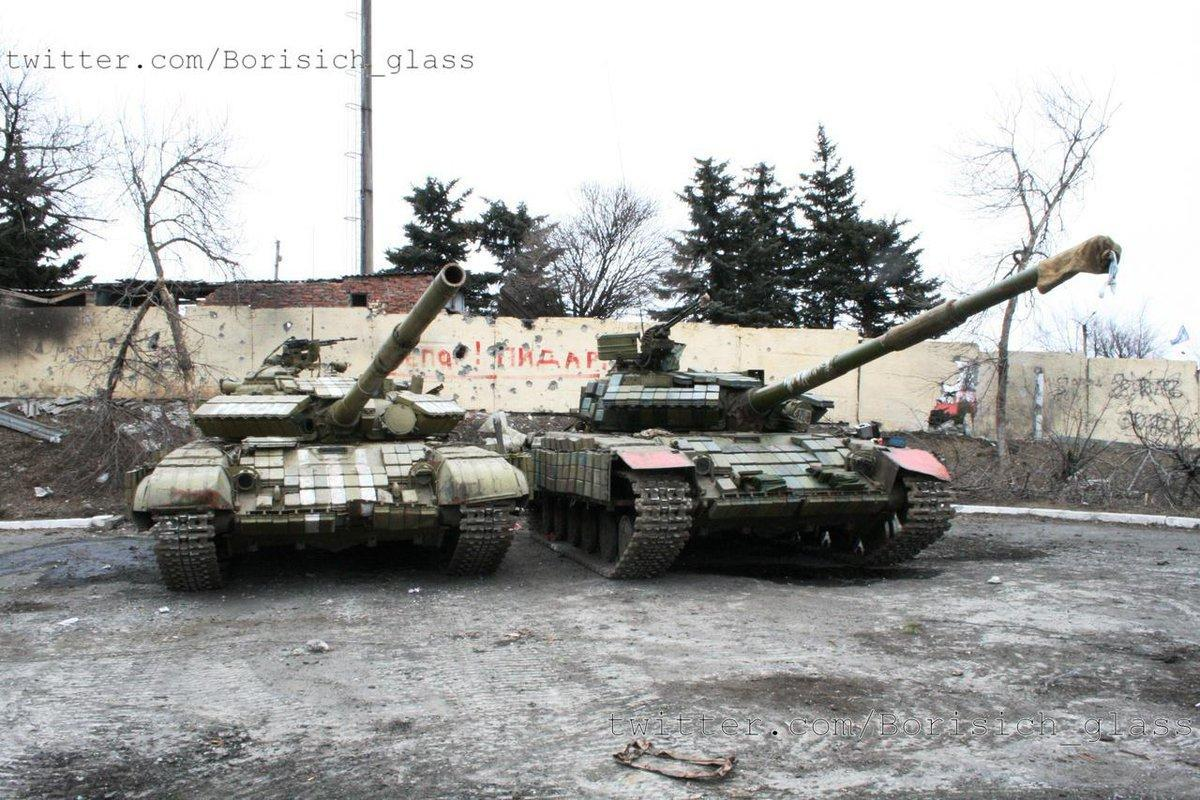tank: (504, 233, 1124, 585), (124, 260, 533, 592)
